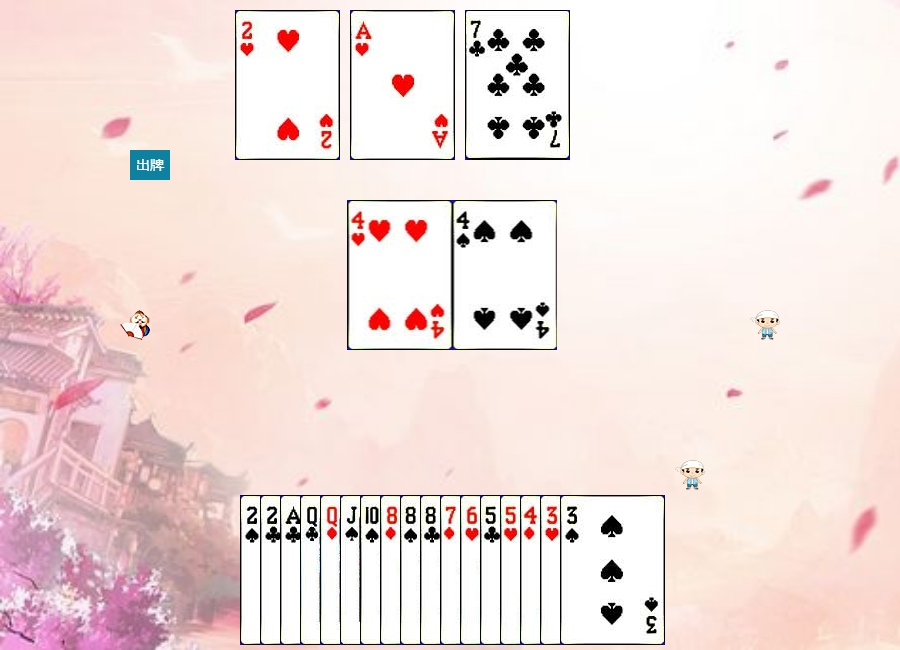10~4: (360, 495, 465, 645)
11~4: (340, 495, 445, 645)
12~1: (320, 495, 425, 645)
12~2: (300, 495, 405, 645)
14~2: (280, 495, 385, 645)
14~3: (350, 10, 455, 160)
15~2: (260, 495, 365, 645)
15~3: (235, 10, 340, 160)
15~4: (240, 495, 345, 645)
3~3: (540, 495, 645, 645)
3~4: (560, 495, 665, 645)
4~1: (520, 495, 625, 645)
4~3: (348, 200, 453, 350)
4~4: (453, 200, 558, 350)
5~2: (480, 495, 585, 645)
5~3: (500, 495, 605, 645)
6~3: (460, 495, 565, 645)
7~1: (440, 495, 545, 645)
7~2: (465, 10, 570, 160)
8~1: (380, 495, 485, 645)
8~2: (420, 495, 525, 645)
8~4: (400, 495, 505, 645)
